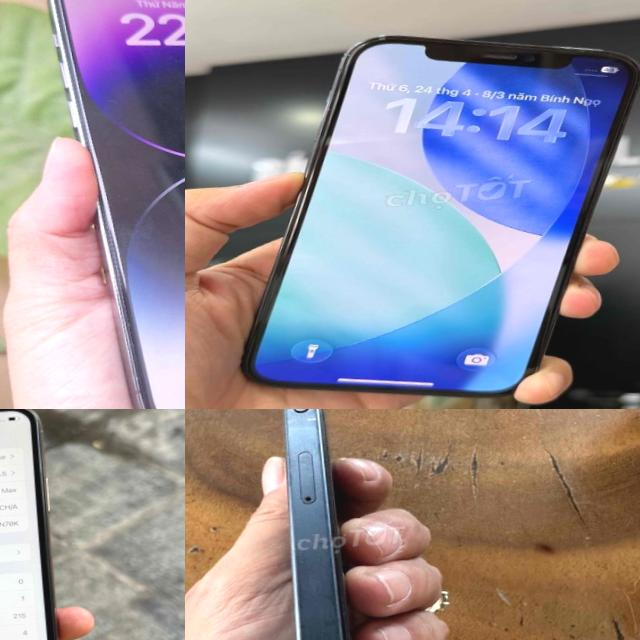gen_11: (0, 409, 77, 640)
gen_12_13: (217, 17, 640, 409)
gen_14: (43, 0, 185, 409)
gen_15: (244, 409, 367, 640)
